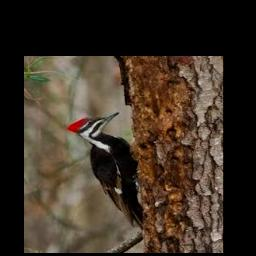Woodpecker: (68, 112, 144, 229)
